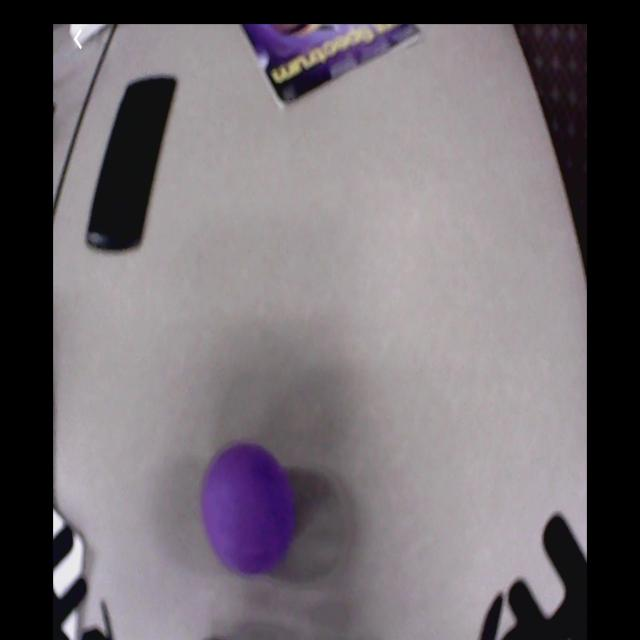ball: (205, 446, 295, 575)
